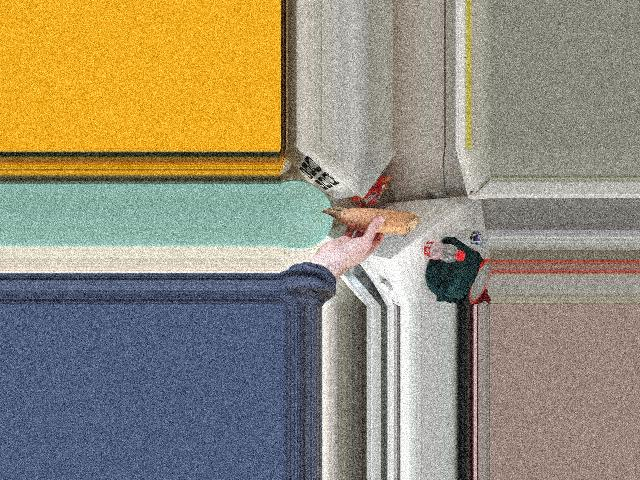sweet_potato: (323, 199, 415, 235)
